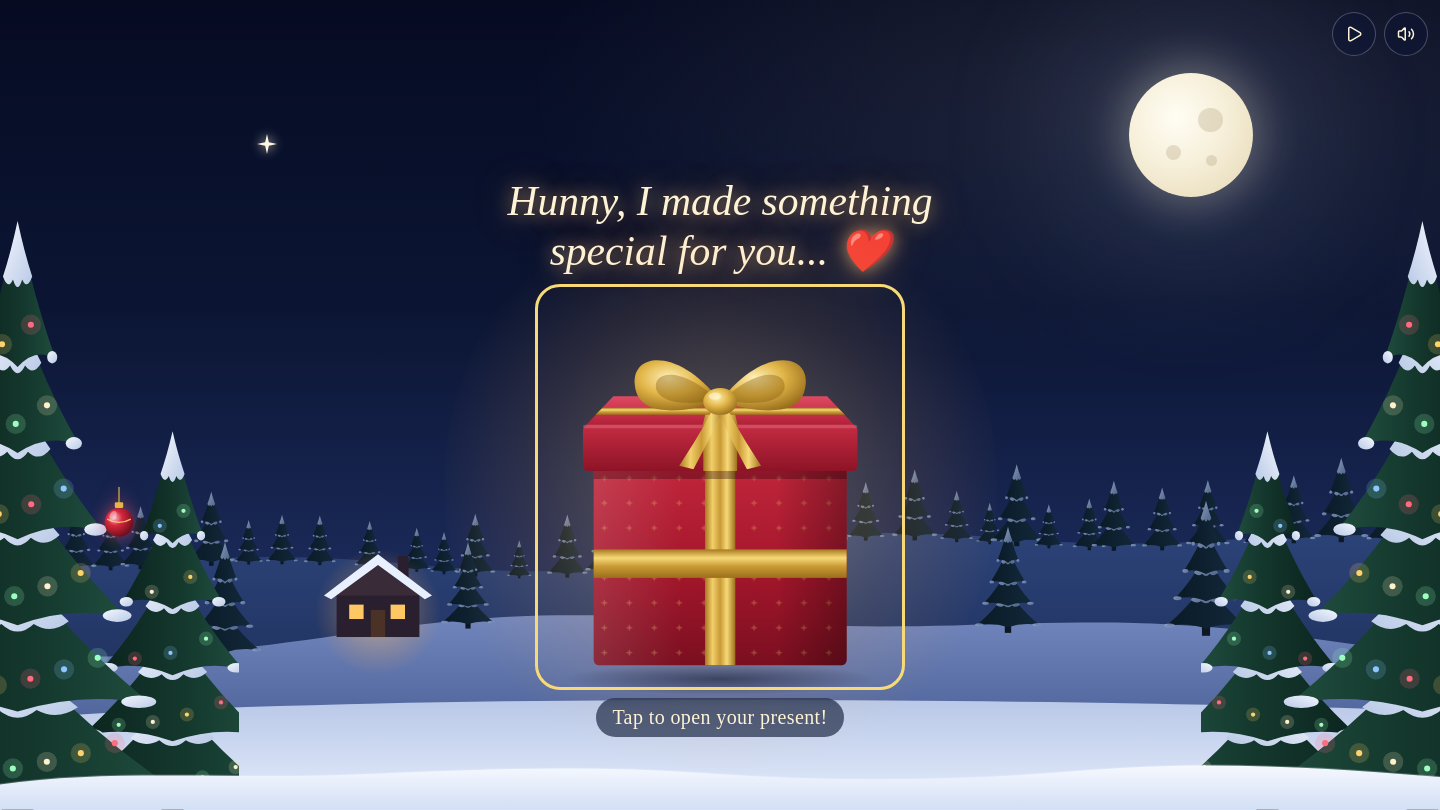
Test: the Christmas surprise › opens the present, reveals the full letter, then offers the future button
Earlier steps of the test are not shown.
Step 1. Click the button named "Open your present" → (720, 487), box x1=542 y1=291 x2=898 y2=683
Wait 900 ms
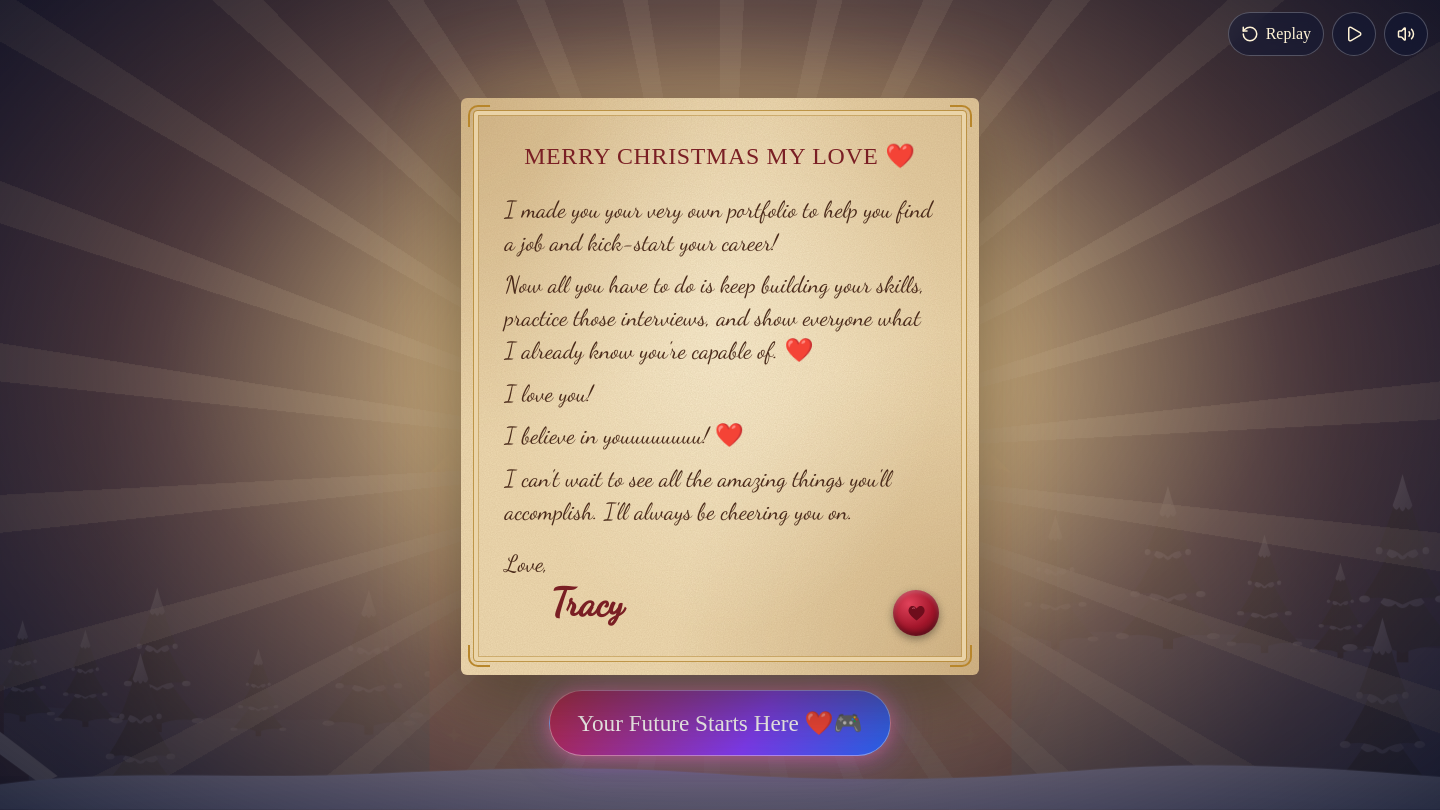
Result: the button named "Open your present" is disabled at x1=310 y1=75 x2=1130 y2=809
Result: the button "Your Future Starts Here ❤️🎮" is shown at x1=549 y1=690 x2=891 y2=756
